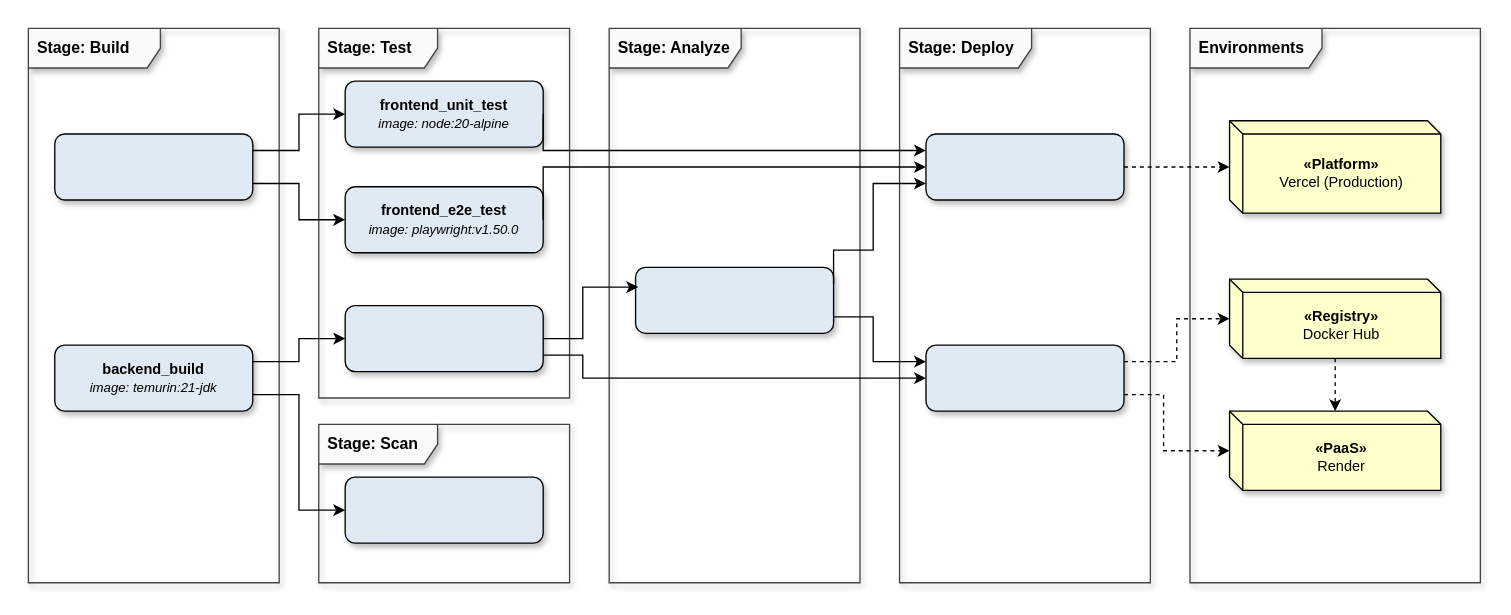
This 1511x615 diagram has some shape labels left out. The shapes that lost their labels are listed below. From the top down, each one's centre as x and y in pixels, then its label:
At (154,168): "frontend_build image: node:20-alpine".
At (1025,168): "deploy_frontend image: node:20-alpine".
At (735,302): "sonarQube image: sonar-scanner-cli".
At (445,340): "backend_test image: temurin:21-jdk".
At (1025,379): "deploy_backend image: kaniko-executor".
At (445,511): "dependency_check image: temurin:21-jdk".
